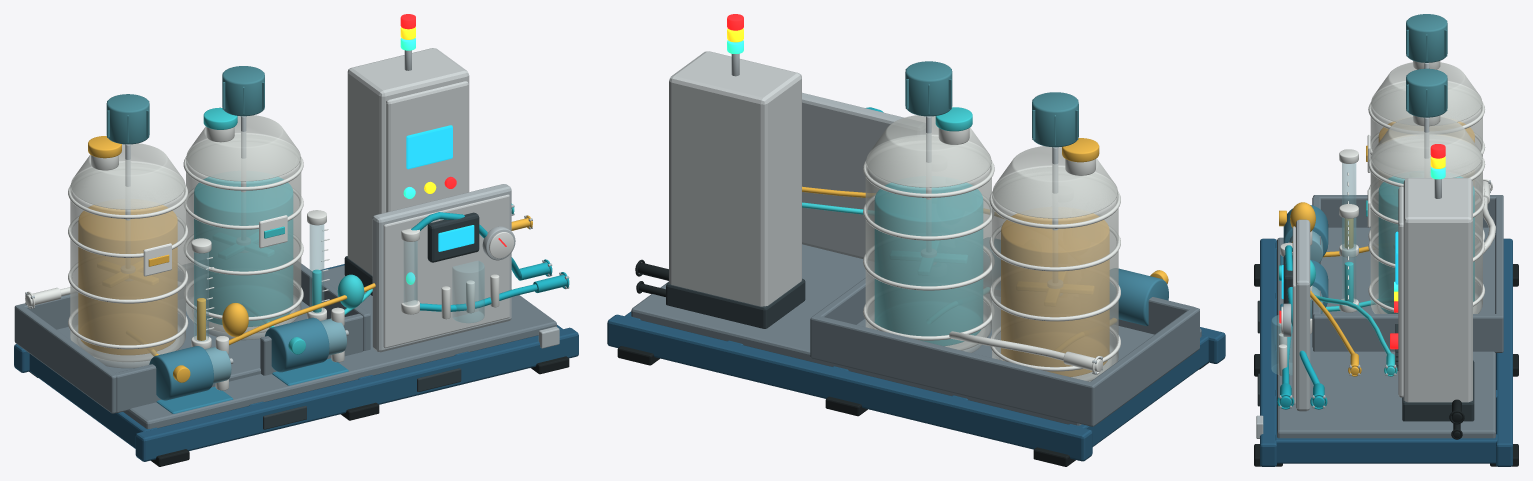
The model's file is cooling-water-automatic-dosing-skid-generic-v1.glb.
3 renders of one model, left to right at view 1: azimuth 30°, elevation 25°; view 2: azimuth 150°, elevation 25°; view 3: azimuth 270°, elevation 25°, orthographic. The views are drawn at different scales.
Parts seen in each view (by area): view 1: TANK_A_BODY, TANK_B_BODY, SKID_LONGITUDINAL_FRONT, TANK_A_LIQUID_LEVEL, SAMPLE_PANEL_FACE, TANK_B_LIQUID_LEVEL, CONTROL_CABINET_BODY, SKID_DECK, CONTROL_CABINET_DOOR, TANK_A_TOP_SHOULDER, TANK_B_TOP_SHOULDER, CONTAINMENT_BUND_LEFT (+42 smaller); view 2: CONTROL_CABINET_BODY, TANK_B_BODY, TANK_A_BODY, SKID_LONGITUDINAL_REAR, TANK_B_LIQUID_LEVEL, TANK_A_LIQUID_LEVEL, CONTAINMENT_BUND_REAR, SAMPLE_PANEL_SUPPORT, SKID_DECK, TANK_B_TOP_SHOULDER, TANK_A_TOP_SHOULDER, CONTAINMENT_BUND_LEFT (+20 smaller); view 3: CONTROL_CABINET_BODY, SKID_DECK, TANK_B_BODY, SKID_CROSSMEMBER_5, TANK_B_TOP_SHOULDER, CONTAINMENT_BUND_FLOOR, CONTAINMENT_BUND_RIGHT, SKID_LONGITUDINAL_FRONT, TANK_A_TOP_SHOULDER, SKID_LONGITUDINAL_REAR, SAMPLE_PANEL_SUPPORT, TANK_A_BODY (+27 smaller).
Boxes of the visible parts, left/top/right/bottom form: TANK_A_BODY: left=70, top=163, right=185, bottom=362; TANK_B_BODY: left=186, top=144, right=301, bottom=333; SKID_LONGITUDINAL_FRONT: left=135, top=327, right=578, bottom=461; TANK_A_LIQUID_LEVEL: left=78, top=205, right=177, bottom=354; SAMPLE_PANEL_FACE: left=383, top=194, right=509, bottom=348; TANK_B_LIQUID_LEVEL: left=194, top=177, right=292, bottom=326; CONTROL_CABINET_BODY: left=347, top=48, right=469, bottom=275; SKID_DECK: left=123, top=265, right=556, bottom=428; CONTROL_CABINET_DOOR: left=386, top=81, right=468, bottom=212; TANK_A_TOP_SHOULDER: left=71, top=143, right=185, bottom=209; TANK_B_TOP_SHOULDER: left=186, top=115, right=300, bottom=181; CONTAINMENT_BUND_LEFT: left=15, top=304, right=116, bottom=413; CONTROL_CABINET_BODY: left=669, top=51, right=801, bottom=306; TANK_B_BODY: left=865, top=136, right=991, bottom=350; TANK_A_BODY: left=992, top=167, right=1118, bottom=381; SKID_LONGITUDINAL_REAR: left=607, top=314, right=1092, bottom=461; TANK_B_LIQUID_LEVEL: left=875, top=183, right=982, bottom=345; TANK_A_LIQUID_LEVEL: left=1001, top=213, right=1109, bottom=376; CONTAINMENT_BUND_REAR: left=810, top=315, right=1096, bottom=426; SAMPLE_PANEL_SUPPORT: left=802, top=92, right=925, bottom=260; SKID_DECK: left=631, top=244, right=1201, bottom=425; TANK_B_TOP_SHOULDER: left=866, top=115, right=991, bottom=187; TANK_A_TOP_SHOULDER: left=992, top=146, right=1117, bottom=218; CONTAINMENT_BUND_LEFT: left=1088, top=307, right=1199, bottom=425; CONTROL_CABINET_BODY: left=1403, top=178, right=1472, bottom=402; SKID_DECK: left=1277, top=237, right=1495, bottom=438; TANK_B_BODY: left=1370, top=135, right=1482, bottom=313; SKID_CROSSMEMBER_5: left=1275, top=434, right=1497, bottom=463; TANK_B_TOP_SHOULDER: left=1371, top=117, right=1482, bottom=178; CONTAINMENT_BUND_FLOOR: left=1321, top=227, right=1494, bottom=348; CONTAINMENT_BUND_RIGHT: left=1313, top=314, right=1501, bottom=352; SKID_LONGITUDINAL_FRONT: left=1260, top=238, right=1276, bottom=466; TANK_A_TOP_SHOULDER: left=1371, top=62, right=1482, bottom=122; SKID_LONGITUDINAL_REAR: left=1496, top=238, right=1512, bottom=466; SAMPLE_PANEL_SUPPORT: left=1296, top=219, right=1310, bottom=411; TANK_A_BODY: left=1370, top=82, right=1482, bottom=156.
Bounding box in the file's own units: 3.43 × 2.22 × 1.84.
